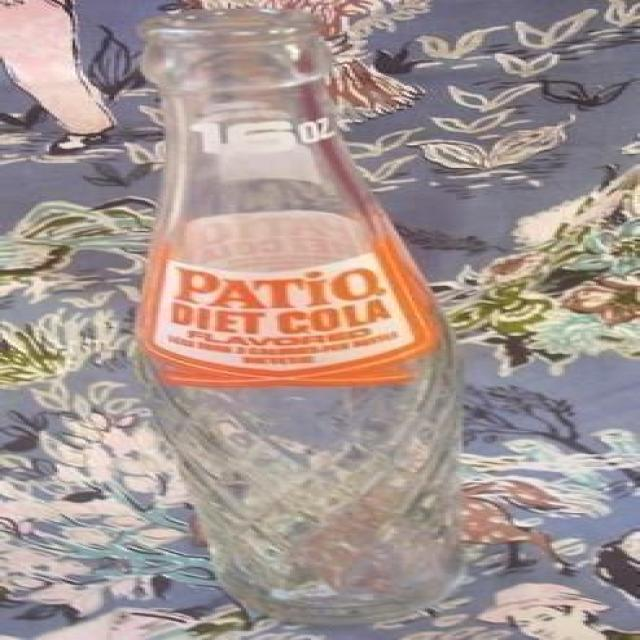bottle-glass: (130, 9, 469, 622)
